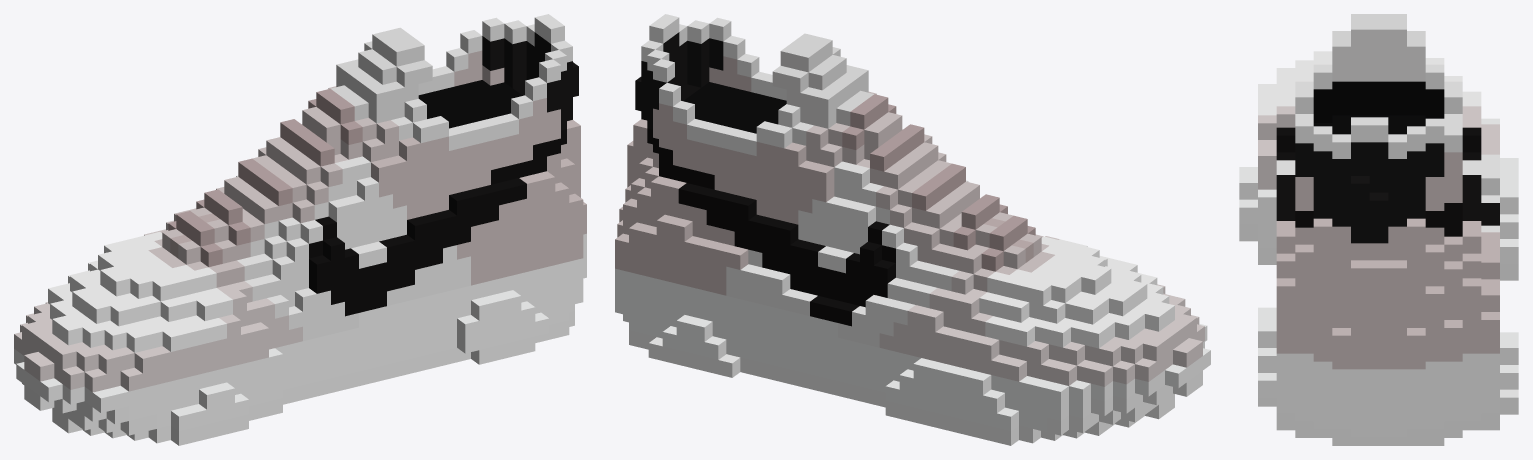
The model's file is Vincible.fbx.
3 views of the same model, side by side, from view 1: azimuth 30°, elevation 25°; view 2: azimuth 150°, elevation 25°; view 3: azimuth 270°, elevation 25° (orthographic). The views are drawn at different scales.
Visible parts, largest first — view 1: Untitled; view 2: Untitled; view 3: Untitled.
Boxes of the visible parts, x1,y1,x2,y2 form: Untitled: (14, 14, 586, 445); Untitled: (615, 14, 1210, 445); Untitled: (1239, 14, 1518, 445).
Size of the model in its own units: 390 by 200 by 150.
